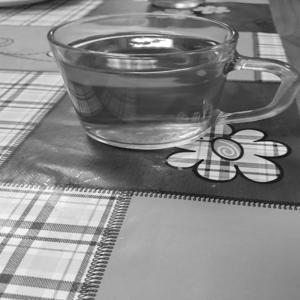tea: (43, 4, 264, 176)
